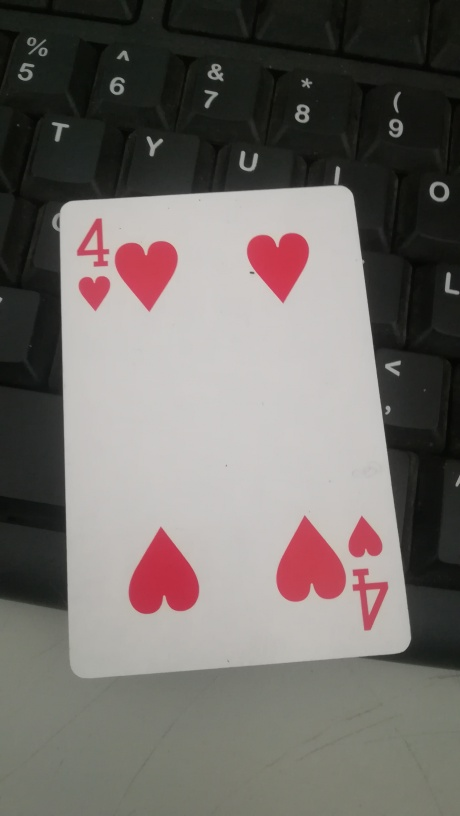hx 4: (53, 183, 411, 674)
